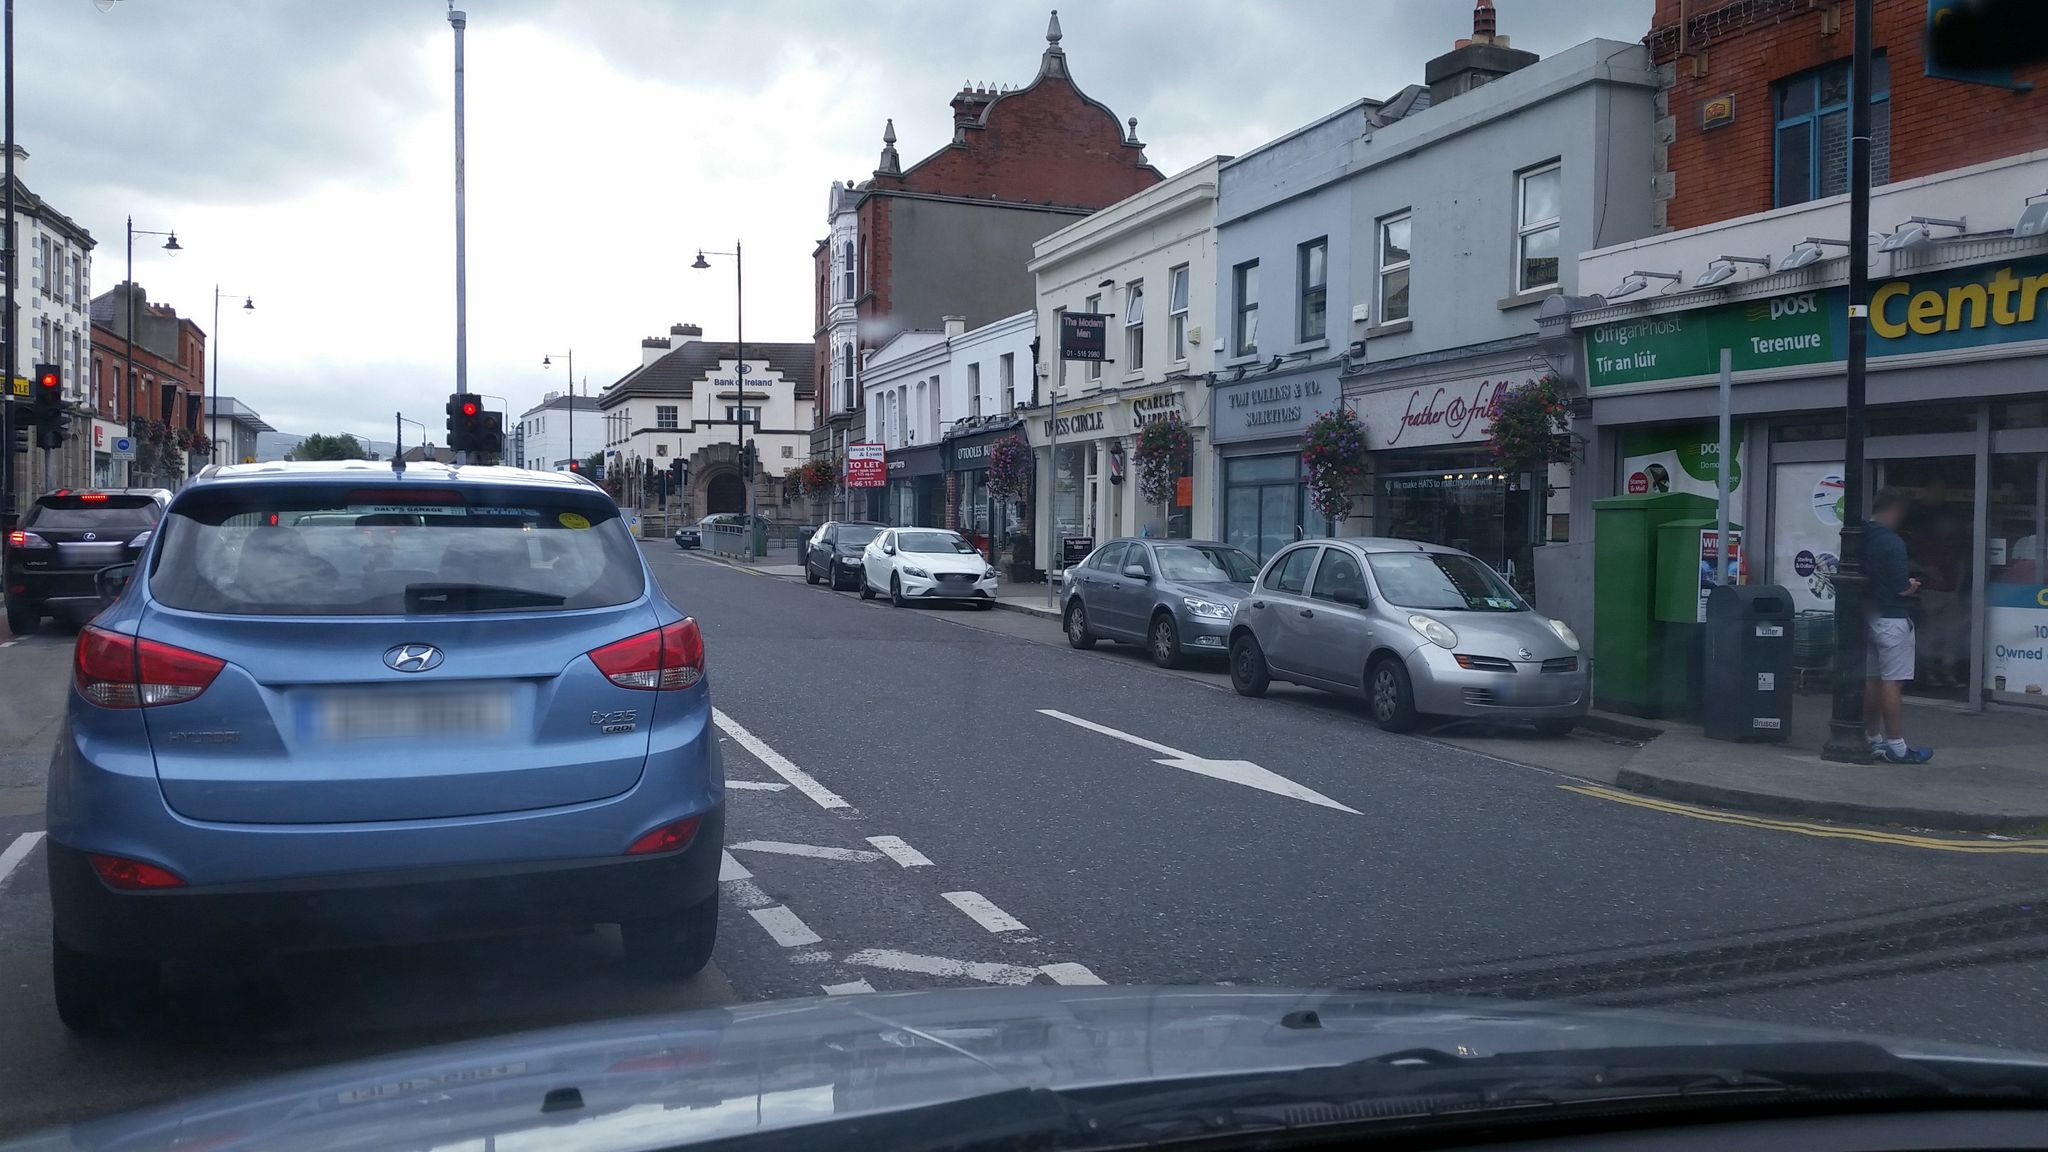property sign: (838, 430, 890, 501)
